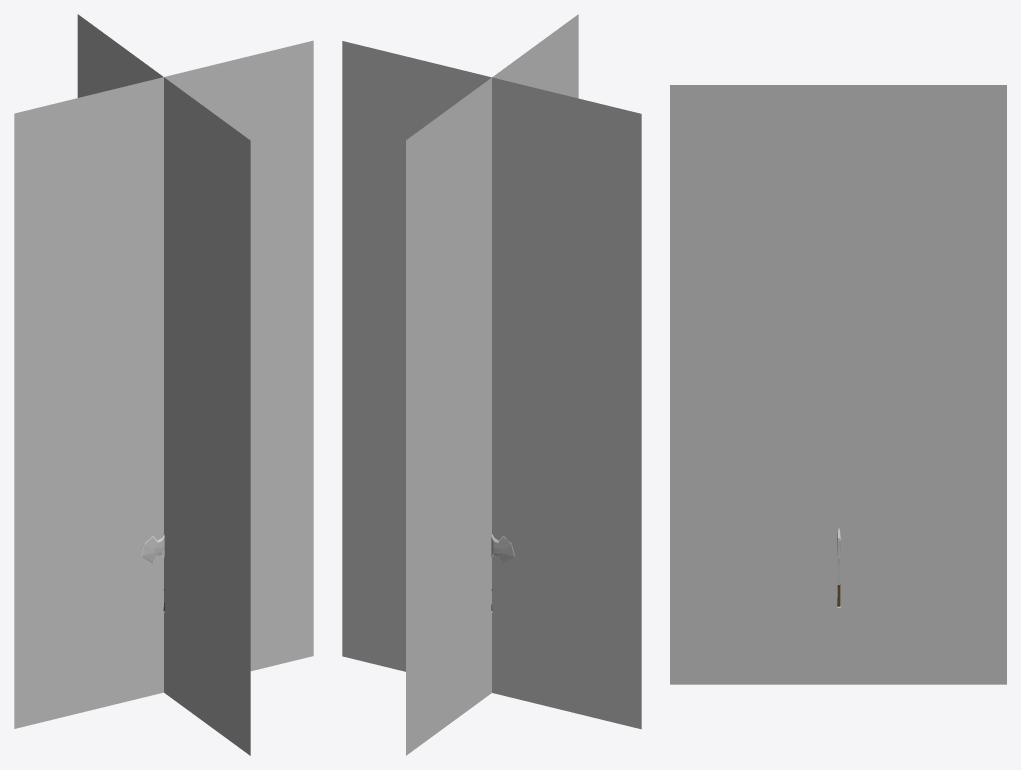
The model's file is Axe.fbx.
The picture shows the model from 3 angles, left to right: view 1: azimuth 30°, elevation 25°; view 2: azimuth 150°, elevation 25°; view 3: azimuth 270°, elevation 25°; orthographic projection. The views are drawn at different scales.
Visible parts, largest first — view 1: Plane, Plane.001; view 2: Plane, Plane.001; view 3: Plane.001.
Part boxes in pixels (x1=…): Plane: x1=14, y1=40, x2=313, y2=728; Plane.001: x1=77, y1=14, x2=250, y2=755; Plane: x1=342, y1=41, x2=641, y2=729; Plane.001: x1=406, y1=14, x2=578, y2=755; Plane.001: x1=670, y1=85, x2=1006, y2=684.
Bounding box in the file's own units: 2491 × 4895 × 2491.
Materials: 2 (1 with a texture image).
